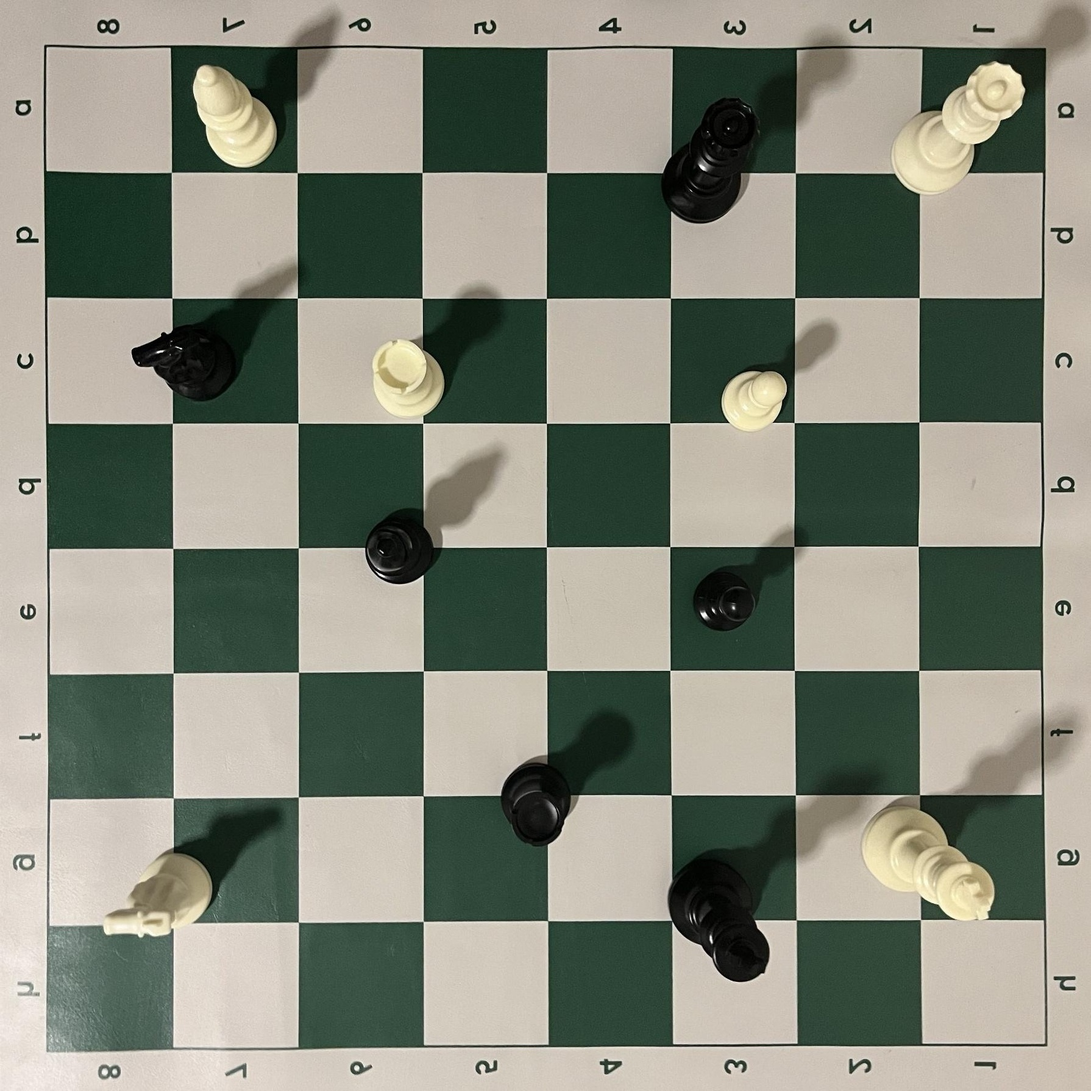black_bishop: (364, 508, 435, 586)
black_king: (667, 852, 770, 983)
black_knight: (131, 325, 237, 403)
black_pawn: (693, 571, 756, 632)
black_queen: (661, 98, 761, 225)
black_rook: (499, 761, 572, 848)
white_bishop: (192, 64, 278, 169)
white_king: (860, 804, 997, 923)
white_knight: (102, 851, 213, 939)
white_pawn: (720, 370, 788, 433)
white_queen: (890, 60, 1027, 196)
white_rook: (371, 338, 445, 419)
